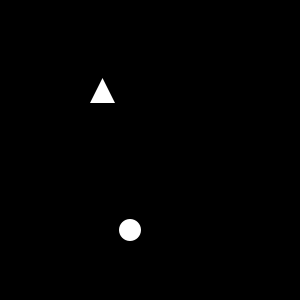rectangle: (119, 219, 141, 241)
triangle: (90, 78, 115, 103)
